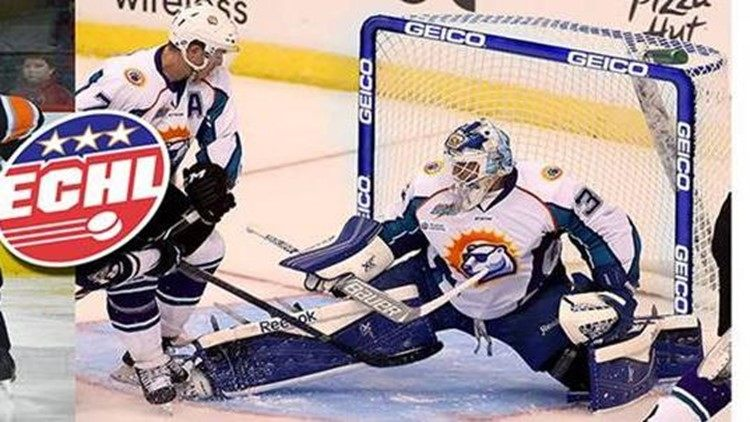Geico: (395, 15, 660, 83), (672, 119, 708, 319), (353, 56, 381, 217)
